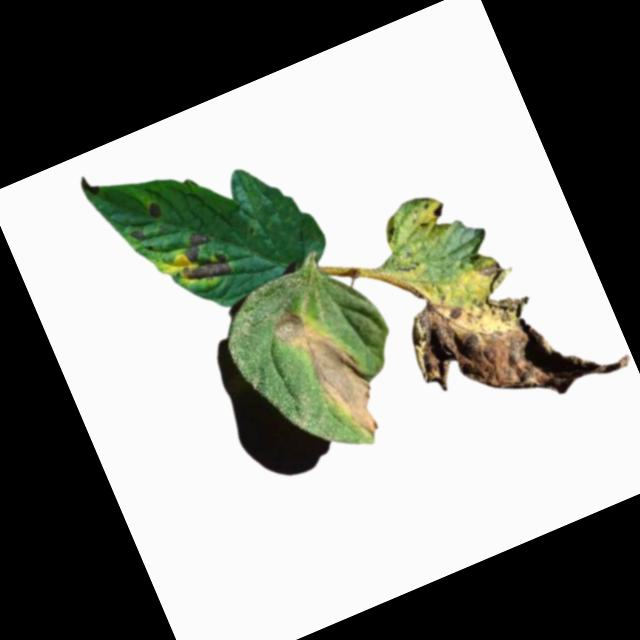Early_blight: (393, 229, 634, 445), (268, 289, 392, 458), (168, 223, 235, 292), (77, 172, 103, 203), (142, 201, 163, 223), (126, 227, 147, 247), (431, 202, 450, 221)
